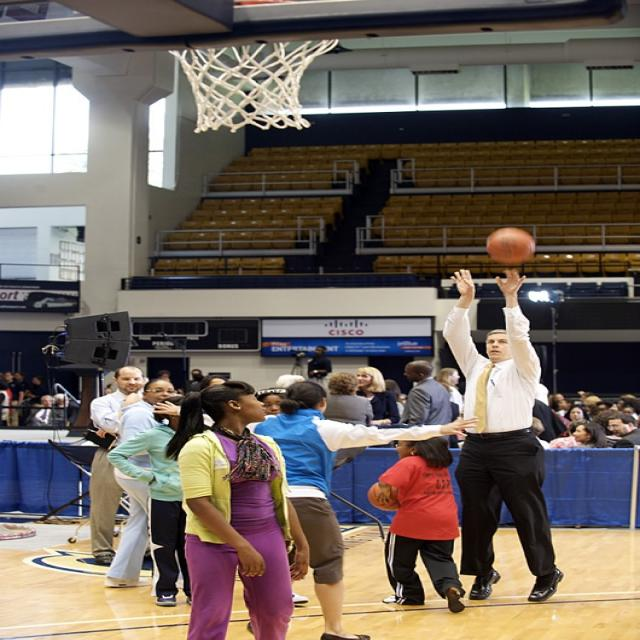body: (148, 378, 486, 639), (436, 265, 566, 607), (161, 379, 315, 639), (104, 394, 200, 608), (167, 379, 266, 565), (372, 437, 468, 614), (103, 378, 181, 590), (88, 365, 155, 566), (548, 390, 640, 450), (395, 358, 454, 449), (353, 366, 402, 426), (322, 372, 376, 426), (432, 366, 465, 418), (306, 345, 334, 404), (1, 370, 27, 429), (566, 422, 615, 449), (605, 412, 640, 449), (253, 387, 290, 415), (24, 394, 56, 426), (380, 378, 407, 415), (50, 393, 80, 425), (25, 375, 51, 406), (561, 403, 593, 424), (529, 415, 548, 449), (14, 370, 32, 397), (156, 370, 172, 382)
